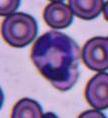N: (31, 30, 81, 90)
